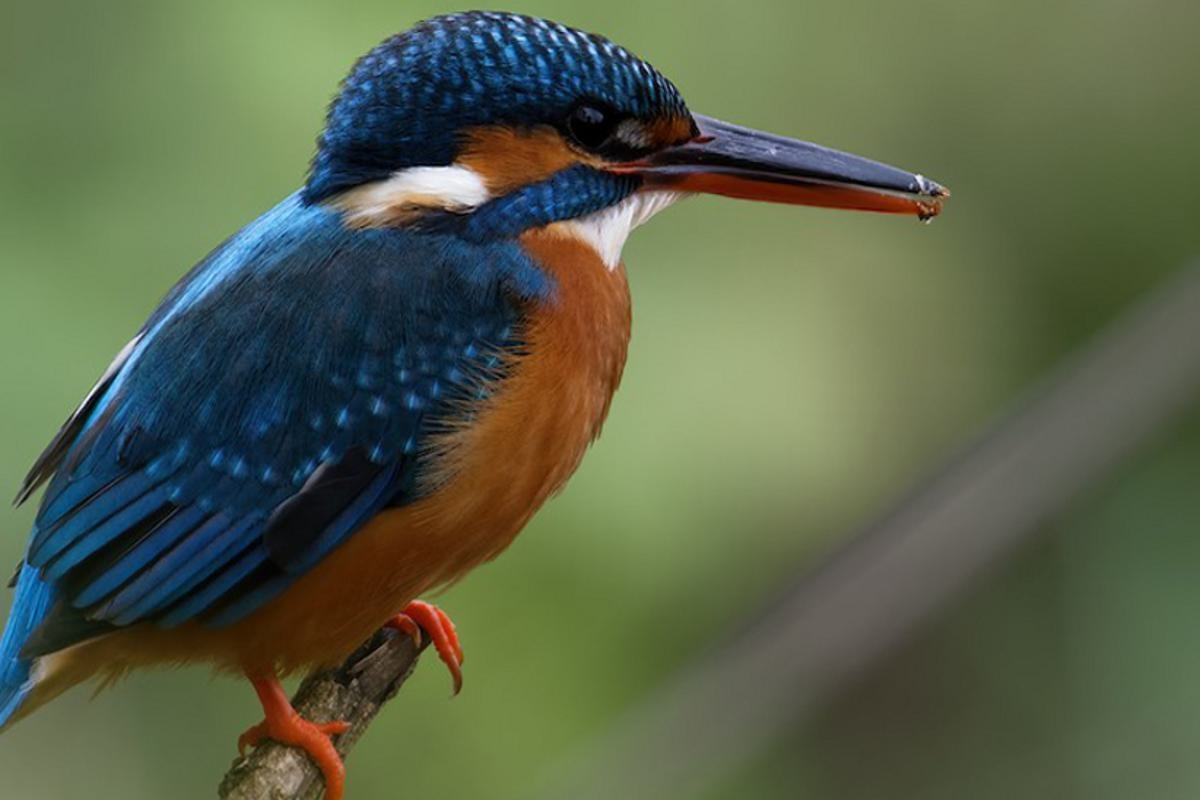kingfisher: (21, 21, 952, 762)
